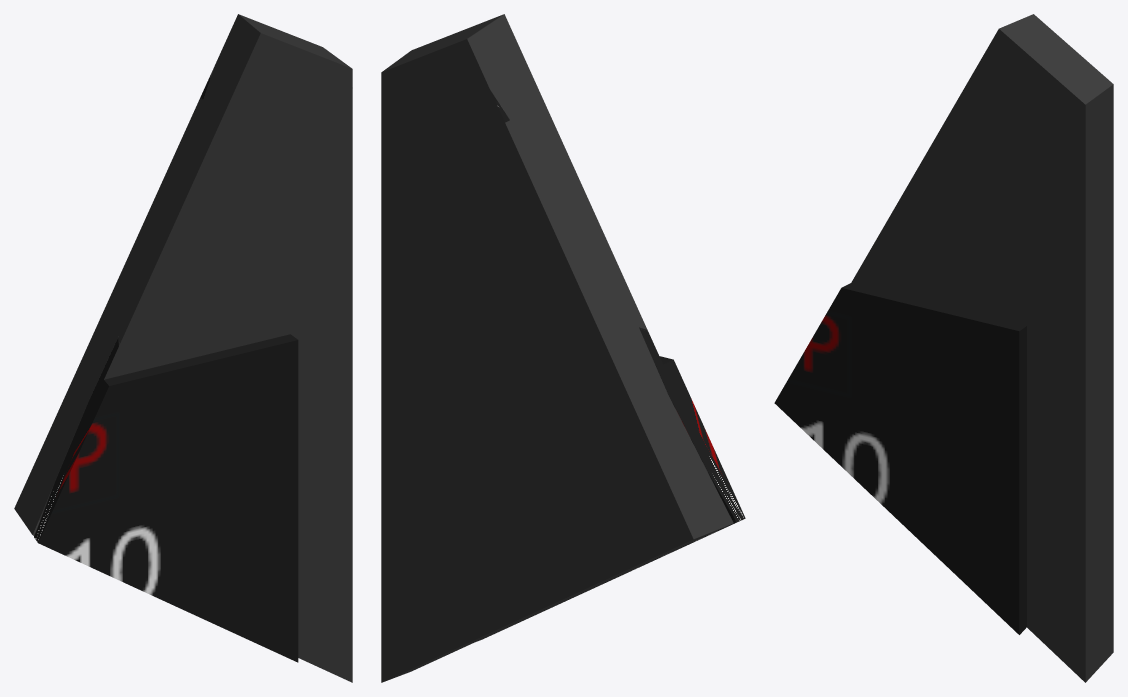
Rendered from memorychipBroken2.FBX.
3 views of the same model, side by side, from view 1: azimuth 30°, elevation 25°; view 2: azimuth 150°, elevation 25°; view 3: azimuth 330°, elevation 25° (orthographic). The views are drawn at different scales.
Visible parts, largest first — view 1: Box001; view 2: Box001; view 3: Box001.
Boxes of the visible parts, x1=… form: Box001: x1=14, y1=14, x2=352, y2=682; Box001: x1=381, y1=14, x2=745, y2=682; Box001: x1=774, y1=14, x2=1113, y2=682.
Size of the model in its own units: 15.18 by 30.24 by 3.07.
1 material, 1 textured.
